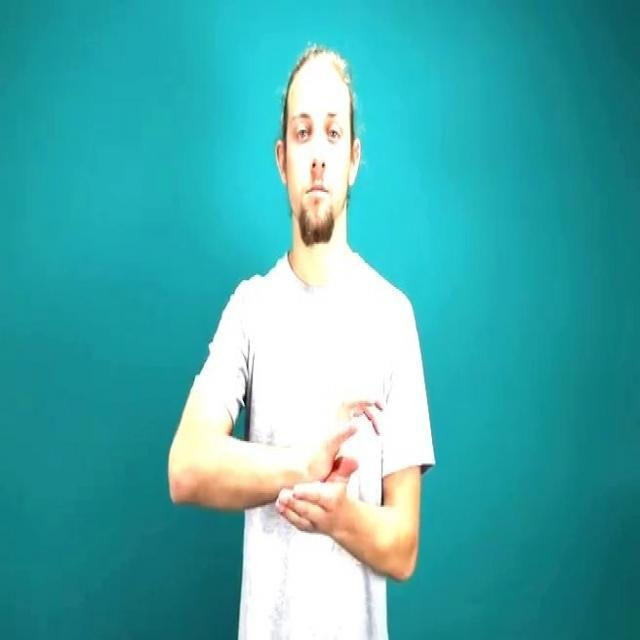cheese: (275, 380, 384, 542)
